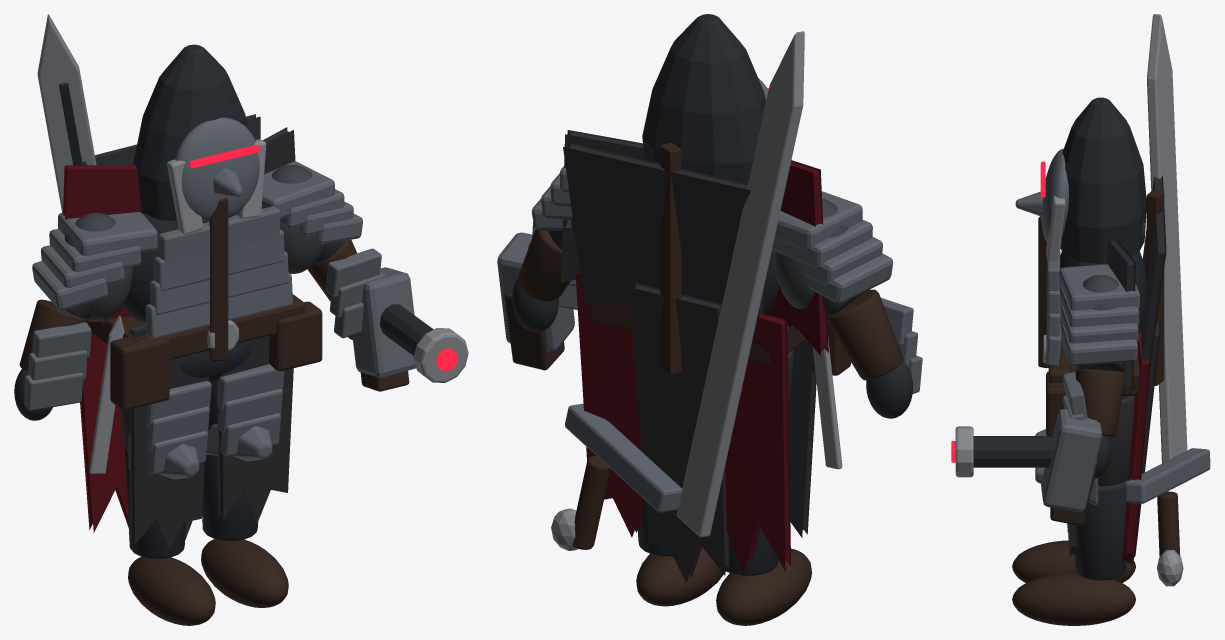
Rendered from AshenWarden_Model01.fbx.
3 renders of one model, left to right at view 1: azimuth 30°, elevation 25°; view 2: azimuth 150°, elevation 25°; view 3: azimuth 270°, elevation 25°, orthographic. The views are drawn at different scales.
Parts seen in each view (by area): view 1: SalletHelmet, CoatFrontLeft, AngularFaceplate, CoatFrontRight, GreatswordBlade, CoatRearLeft, LeftBoot, RightBoot, HandCannonReceiver, LeftPouch, MantleLeft, MainBelt (+47 smaller); view 2: MantleBack, GreatswordBlade, CoatRearCenter, SalletHelmet, CoatRearLeft, CoatRearRight, GreatswordGuard, LeftBoot, CoatFrontLeft, LeftForearm, ScabbardStrap, MantleLeft (+22 smaller); view 3: SalletHelmet, GreatswordBlade, RightBoot, HandCannonReceiver, RightShin, HandCannonBarrel, GreatswordGuard, MantleBack, CoatRearRight, RightForearm, RightPauldronPlate0, LeftBoot (+23 smaller).
Part boxes in pixels (bbox=[...]): SalletHelmet: bbox=[133, 44, 248, 221]; CoatFrontLeft: bbox=[129, 324, 208, 549]; AngularFaceplate: bbox=[174, 117, 259, 221]; CoatFrontRight: bbox=[217, 297, 296, 523]; GreatswordBlade: bbox=[37, 14, 96, 212]; CoatRearLeft: bbox=[80, 322, 128, 532]; LeftBoot: bbox=[128, 557, 215, 625]; RightBoot: bbox=[201, 539, 288, 607]; HandCannonReceiver: bbox=[352, 267, 415, 377]; LeftPouch: bbox=[110, 337, 169, 410]; MantleLeft: bbox=[63, 165, 141, 327]; MainBelt: bbox=[88, 294, 304, 359]; MantleBack: bbox=[563, 142, 765, 317]; GreatswordBlade: bbox=[676, 31, 804, 537]; CoatRearCenter: bbox=[628, 282, 729, 582]; SalletHelmet: bbox=[642, 14, 765, 183]; CoatRearLeft: bbox=[725, 312, 790, 574]; CoatRearRight: bbox=[575, 273, 645, 537]; GreatswordGuard: bbox=[565, 403, 682, 512]; LeftBoot: bbox=[716, 548, 811, 625]; CoatFrontLeft: bbox=[788, 340, 816, 537]; LeftForearm: bbox=[827, 289, 903, 380]; ScabbardStrap: bbox=[660, 142, 681, 375]; MantleLeft: bbox=[767, 160, 828, 355]; SalletHelmet: bbox=[1060, 97, 1146, 263]; GreatswordBlade: bbox=[1147, 14, 1187, 484]; RightBoot: bbox=[1012, 573, 1135, 625]; HandCannonReceiver: bbox=[1041, 409, 1102, 512]; RightShin: bbox=[1074, 479, 1127, 580]; HandCannonBarrel: bbox=[973, 436, 1054, 467]; GreatswordGuard: bbox=[1125, 448, 1210, 503]; MantleBack: bbox=[1138, 175, 1166, 390]; CoatRearRight: bbox=[1122, 330, 1150, 564]; RightForearm: bbox=[1075, 368, 1125, 436]; RightPauldronPlate0: bbox=[1059, 264, 1139, 310]; LeftBoot: bbox=[1012, 540, 1135, 582].
Bounding box in the file's own units: 166 × 245 × 106.
